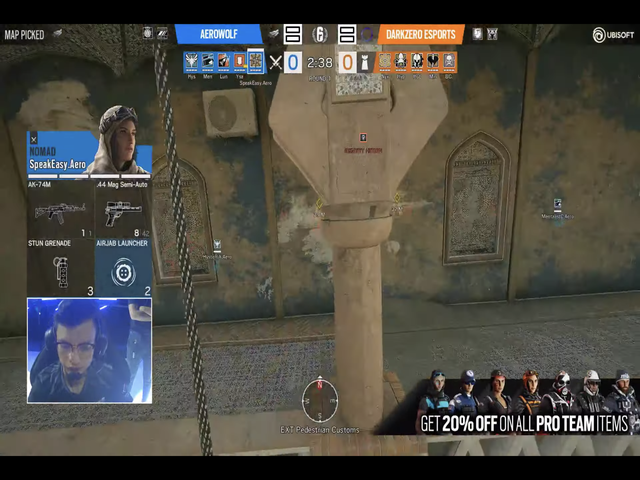0_blue: (281, 48, 304, 76)
